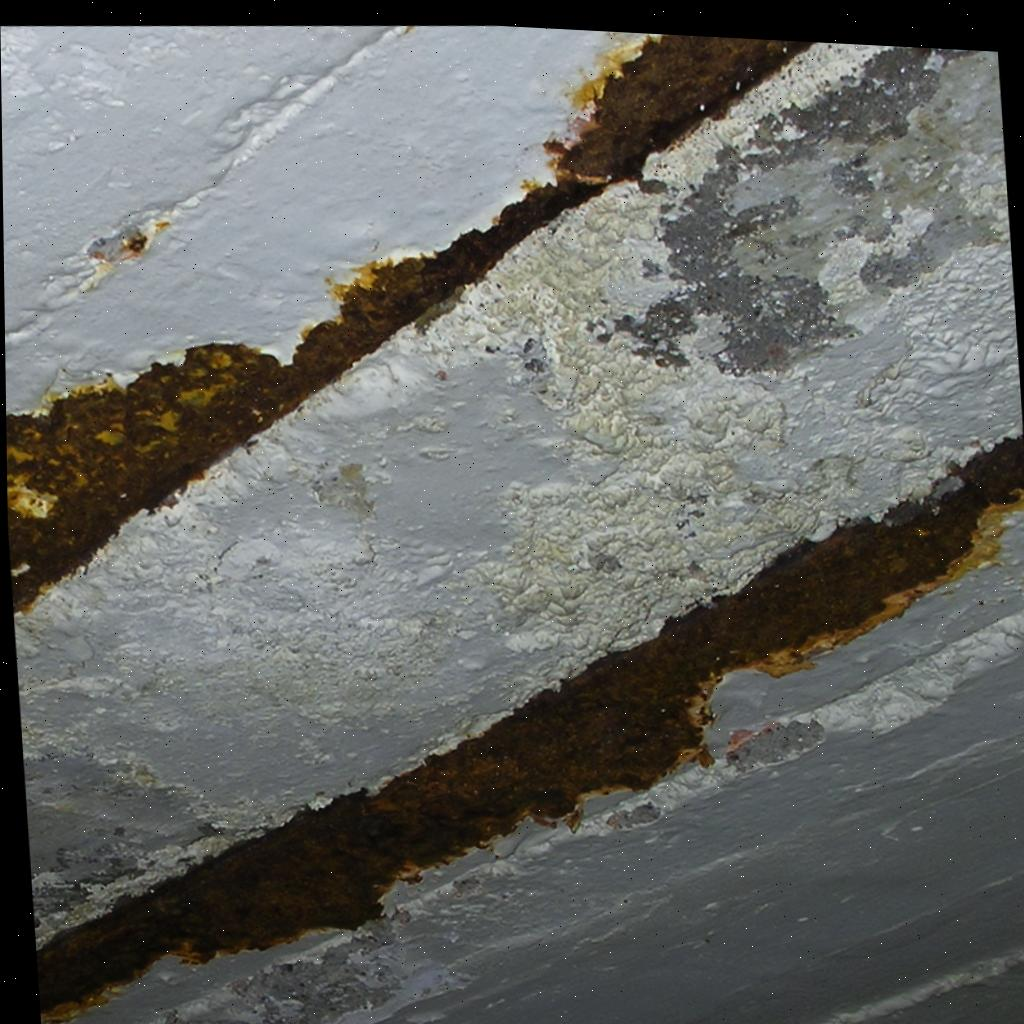exposed_rebar: (37, 439, 1024, 1012), (6, 34, 814, 610)
